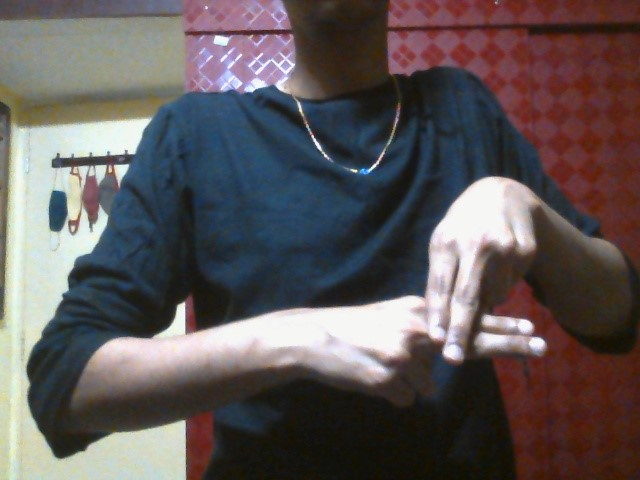F: (313, 178, 548, 409)
